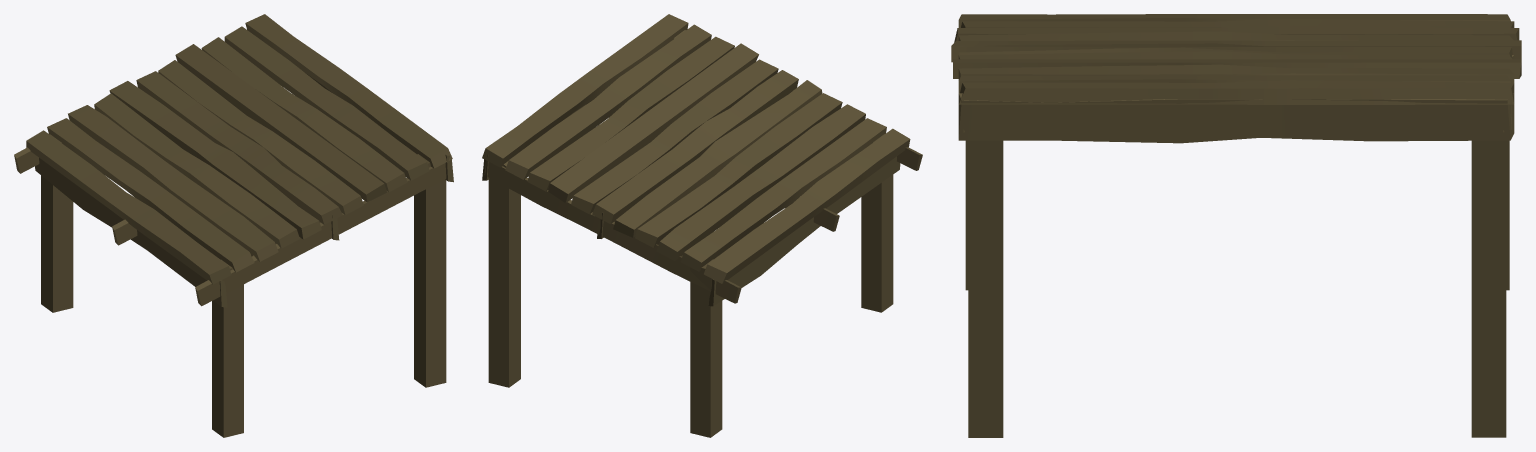
Rendered from WoodStable.fbx.
3 renders of one model, left to right at view 1: azimuth 30°, elevation 25°; view 2: azimuth 150°, elevation 25°; view 3: azimuth 270°, elevation 25°, orthographic. The views are drawn at different scales.
Visible parts, largest first — view 1: polySurface93; view 2: polySurface93; view 3: polySurface93.
Boxes of the visible parts, box(x1,y1,x2,y2) form: polySurface93: box(14, 14, 453, 437); polySurface93: box(482, 14, 922, 437); polySurface93: box(951, 14, 1521, 437).
Size of the model in its own units: 29.69 by 26.01 by 38.36.
